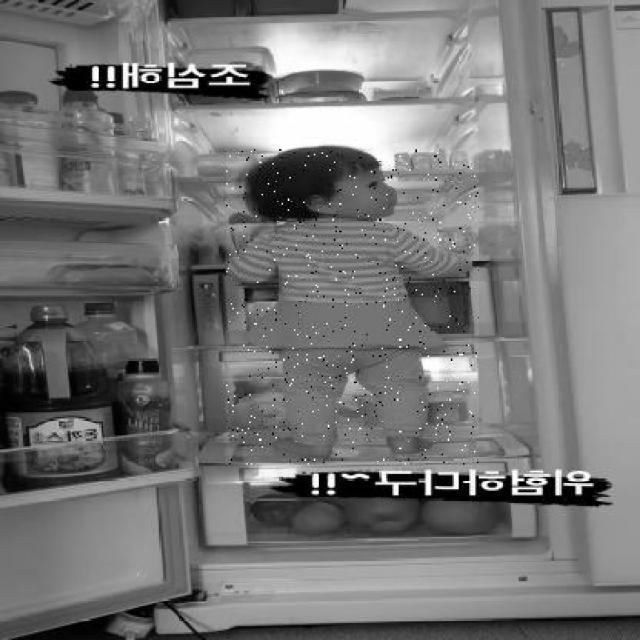child: (226, 149, 480, 465)
